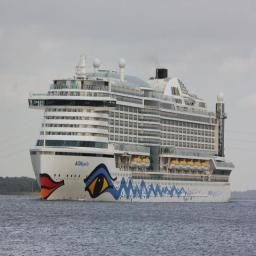cruises: (27, 54, 237, 209)
